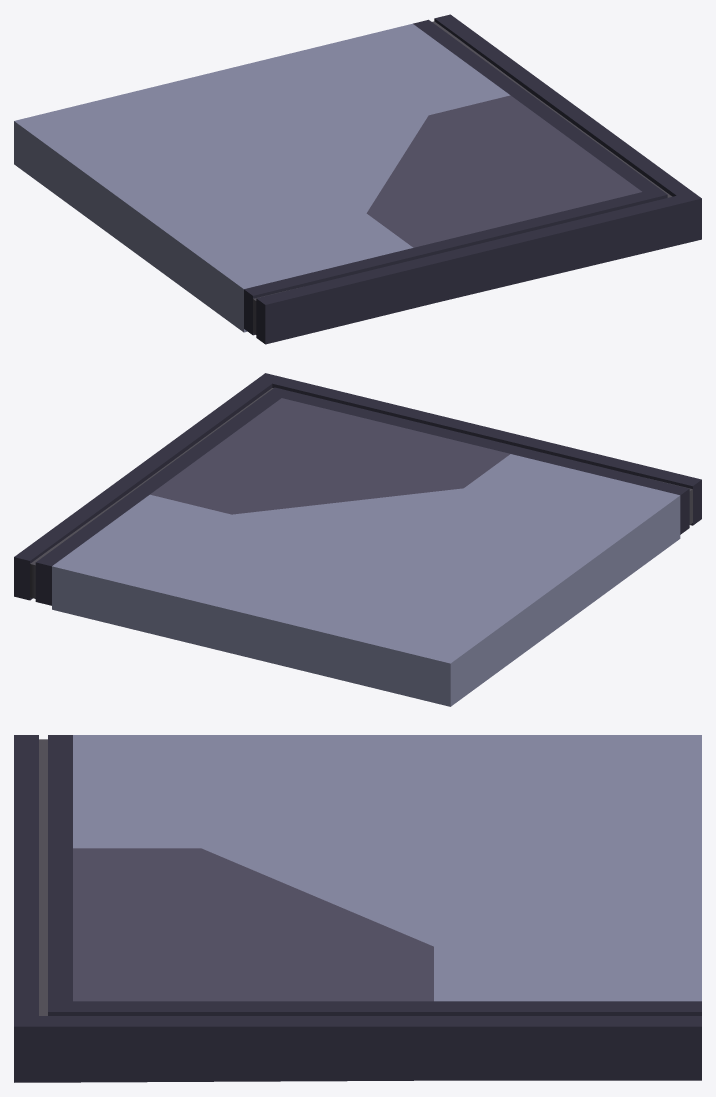
The model's file is floor4.fbx.
The picture shows the model from 3 angles, top to bottom: view 1: azimuth 30°, elevation 25°; view 2: azimuth 150°, elevation 25°; view 3: azimuth 270°, elevation 25°; orthographic projection. The views are drawn at different scales.
Visible parts, largest first — view 1: floor4; view 2: floor4; view 3: floor4.
Part boxes in pixels (x1,y1,x2,y2): floor4: (14,14,701,344); floor4: (14,373,701,706); floor4: (14,735,701,1082).
Bounding box in the file's own units: 386 × 38.46 × 385.
